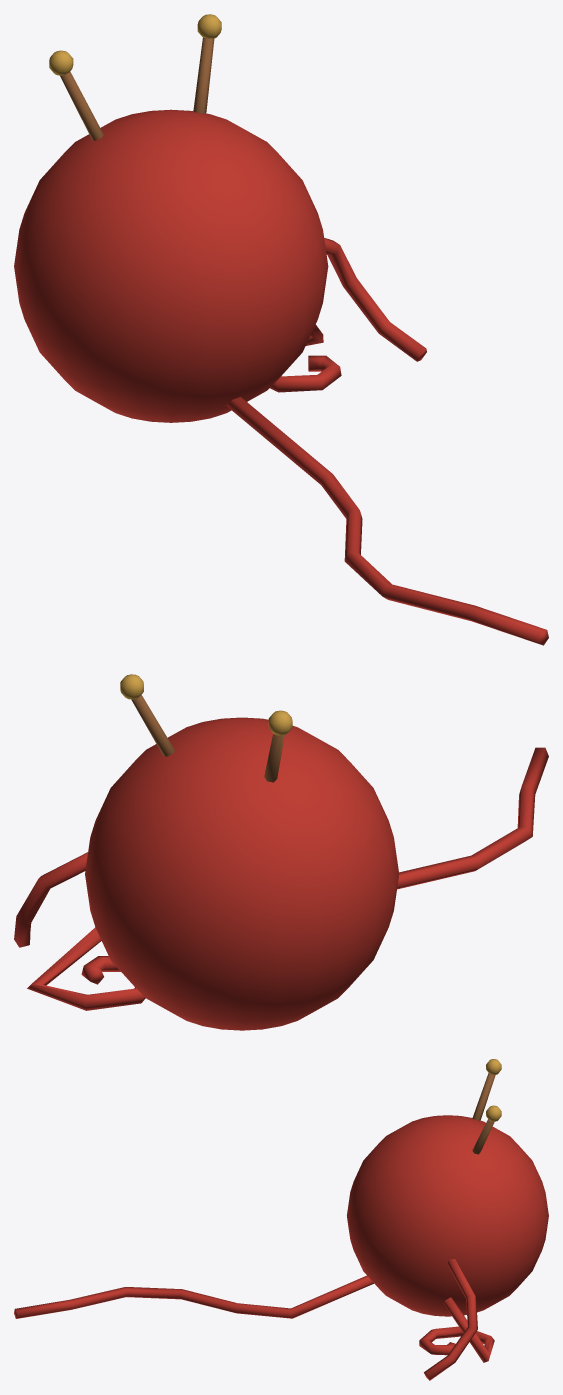
File: pet_yarn.glb
3 renders of one model, top to bottom at view 1: azimuth 30°, elevation 25°; view 2: azimuth 150°, elevation 25°; view 3: azimuth 270°, elevation 25°, orthographic. The views are drawn at different scales.
Parts seen in each view (by area): view 1: body.001, tail, tail.001, tail.002; view 2: body.001, tail, tail.002, tail.001; view 3: body.001, tail, tail.002, tail.001.
Boxes of the visible parts, x1=… form: body.001: x1=14, y1=14, x2=328, y2=422; tail: x1=226, y1=397, x2=548, y2=645; tail.001: x1=324, y1=238, x2=426, y2=361; tail.002: x1=270, y1=324, x2=341, y2=392; body.001: x1=85, y1=674, x2=399, y2=1030; tail: x1=397, y1=747, x2=548, y2=889; tail.002: x1=27, y1=927, x2=145, y2=1010; tail.001: x1=14, y1=852, x2=87, y2=947; body.001: x1=347, y1=1059, x2=548, y2=1316; tail: x1=14, y1=1275, x2=373, y2=1318; tail.002: x1=419, y1=1297, x2=494, y2=1362; tail.001: x1=424, y1=1259, x2=477, y2=1380.
Bounding box in the file's own units: 0.3053 × 0.2697 × 0.5821.
